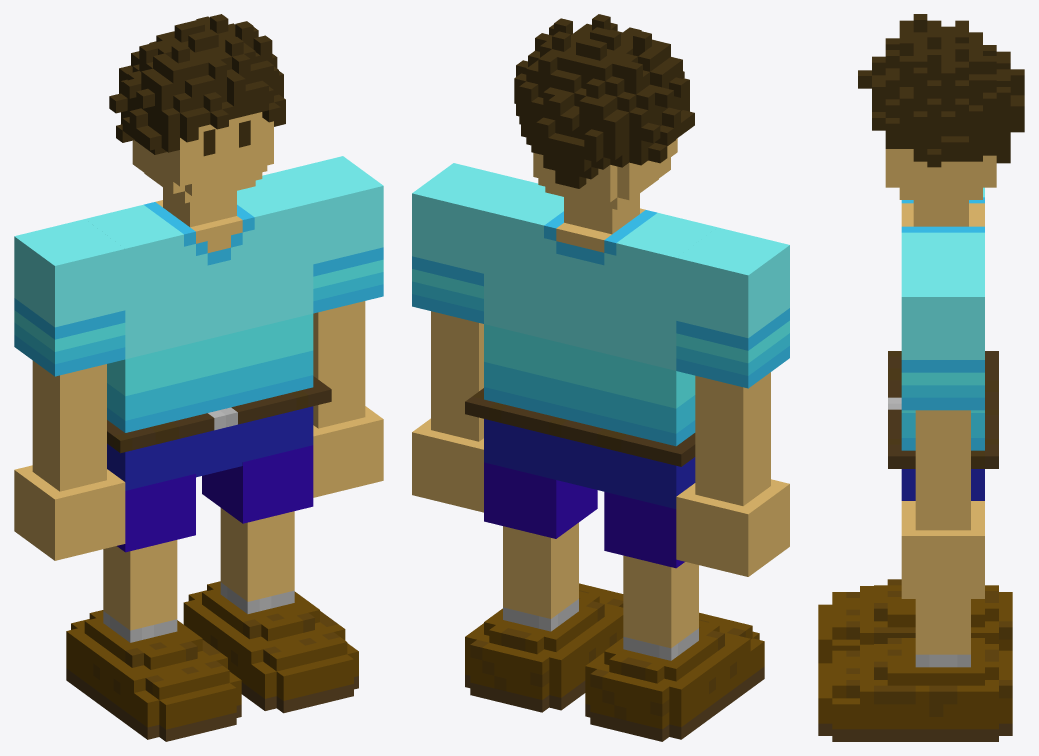
The model's file is Camp Hero.fbx.
3 views of the same model, side by side, from view 1: azimuth 30°, elevation 25°; view 2: azimuth 150°, elevation 25°; view 3: azimuth 270°, elevation 25° (orthographic). The views are drawn at different scales.
Visible parts, largest first — view 1: Torso, Arm-Right, Foot-Left, Foot-Right, Head, Arm-Left, Waist; view 2: Torso, Arm-Right, Head, Foot-Right, Foot-Left, Arm-Left, Waist; view 3: Arm-Left, Head, Foot-Left, Foot-Right, Torso, Waist.
Boxes of the visible parts, x1,y1,x2,y2 form: Torso: (85, 173, 313, 432); Arm-Right: (14, 219, 125, 560); Foot-Left: (183, 445, 358, 713); Foot-Right: (66, 474, 241, 741); Head: (109, 14, 285, 227); Arm-Left: (273, 156, 383, 497); Waist: (107, 376, 331, 490); Torso: (484, 180, 717, 446); Arm-Right: (676, 227, 789, 576); Head: (514, 14, 694, 234); Foot-Right: (585, 492, 764, 741); Foot-Left: (465, 462, 623, 712); Arm-Left: (412, 163, 525, 512); Waist: (465, 388, 695, 508); Arm-Left: (901, 262, 984, 598); Head: (858, 14, 1024, 226); Foot-Left: (818, 599, 1012, 741); Foot-Right: (818, 579, 1012, 663); Torso: (901, 187, 984, 450); Waist: (888, 351, 998, 500).
Bounding box in the file's own units: 0.5589 × 0.2965 × 1.04.
5 materials, 5 textured.
